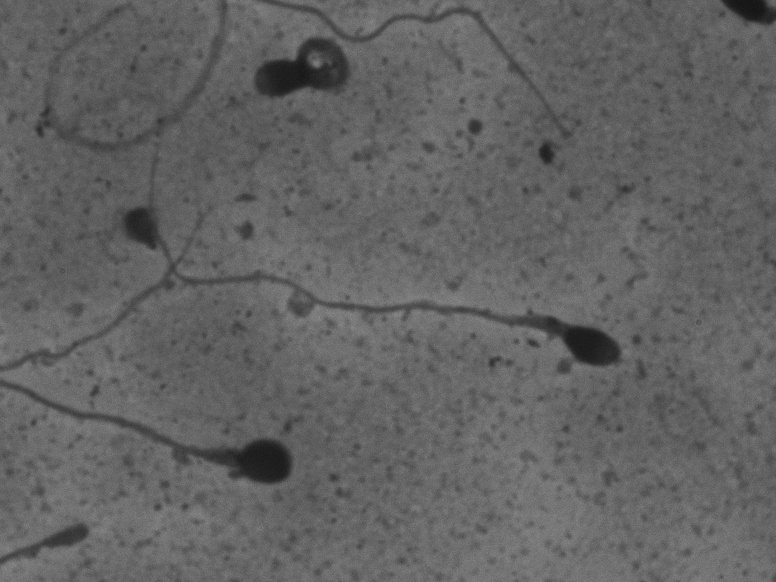Abnormal: (139, 103, 652, 380), (6, 361, 313, 502), (254, 23, 362, 122)
